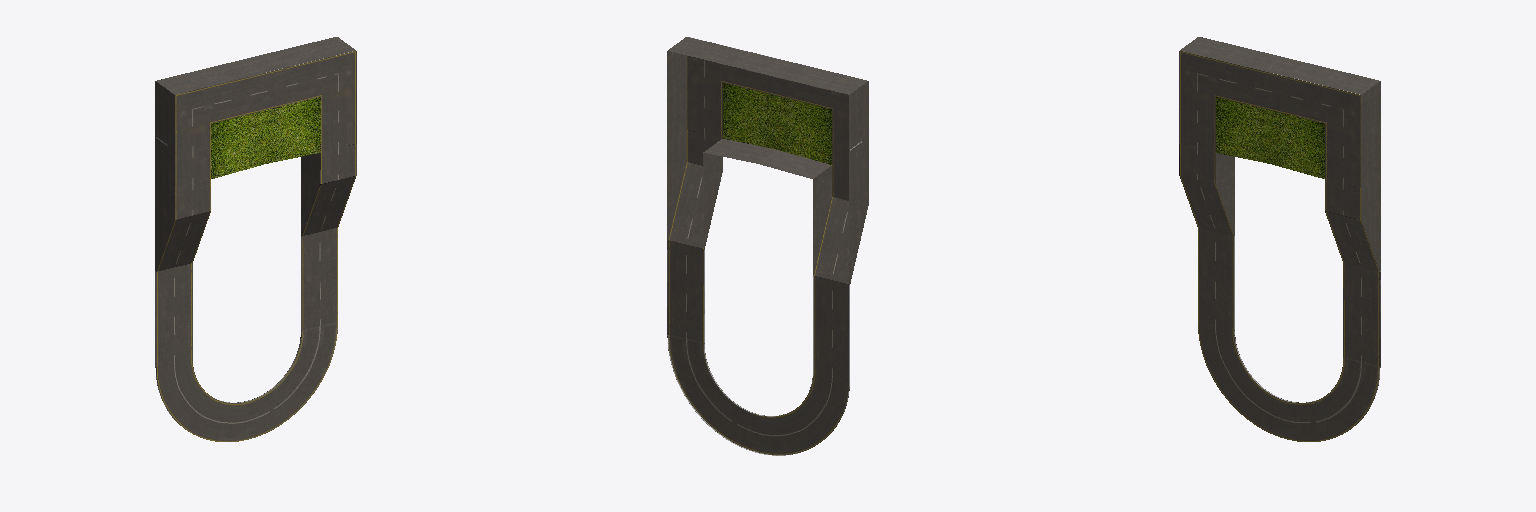
The picture shows the model from 3 angles: view 1: azimuth 30°, elevation 25°; view 2: azimuth 150°, elevation 25°; view 3: azimuth 330°, elevation 25°; orthographic projection.
Visible parts, largest first — view 1: Cube_Cube.004; view 2: Cube_Cube.004; view 3: Cube_Cube.004.
Part boxes in pixels (left/top/right/bottom): Cube_Cube.004: left=155, top=37, right=356, bottom=441; Cube_Cube.004: left=667, top=37, right=868, bottom=455; Cube_Cube.004: left=1179, top=37, right=1380, bottom=441.
Bounding box in the file's own units: 40.12 × 80.24 × 7.4.
1 materials, 1 textured.